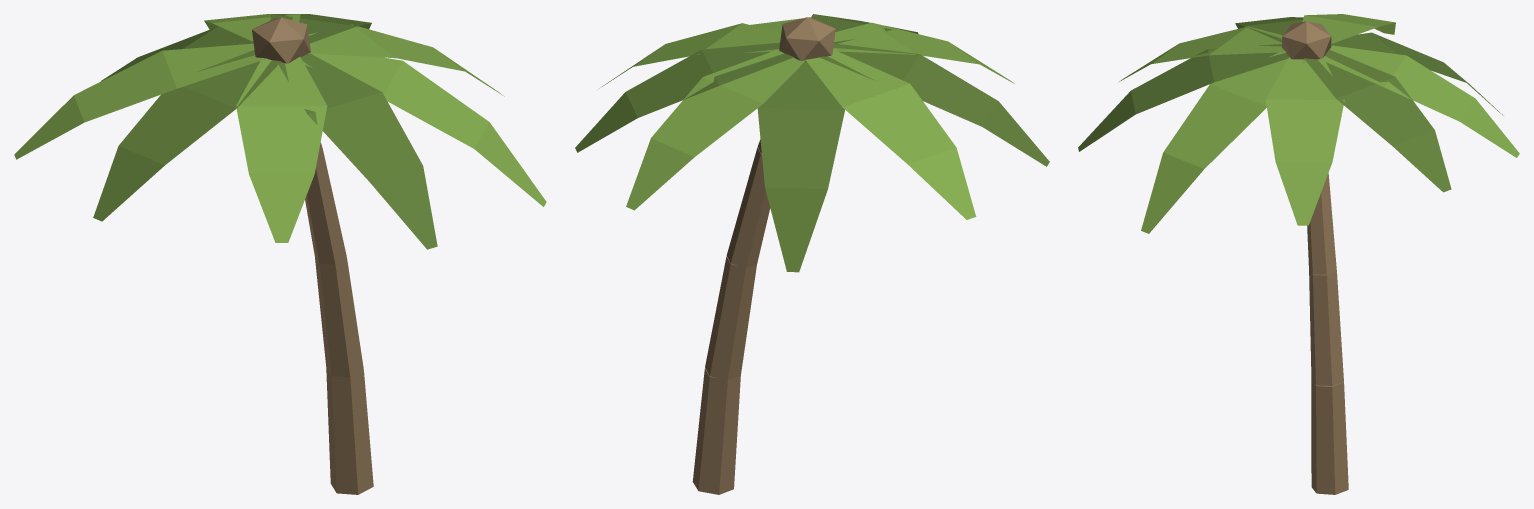
The model's file is palm-v0-autumn.glb.
3 views of the same model, side by side, from view 1: azimuth 30°, elevation 25°; view 2: azimuth 150°, elevation 25°; view 3: azimuth 270°, elevation 25° (orthographic). The views are drawn at different scales.
Visible parts, largest first — view 1: palm_v0; view 2: palm_v0; view 3: palm_v0.
Boxes of the visible parts, x1,y1,x2,y2 form: palm_v0: (14, 14, 546, 494); palm_v0: (575, 14, 1049, 494); palm_v0: (1078, 14, 1519, 494).
Size of what is drawn, in the model's own units: 6.39 by 6.94 by 6.42.
